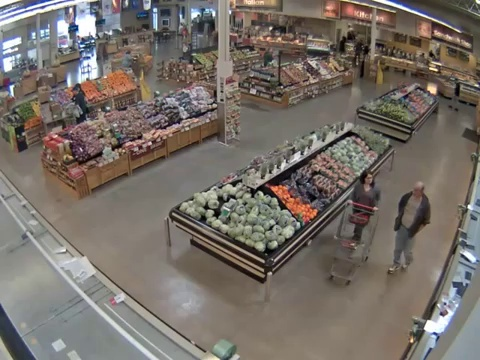face: (412, 186, 423, 197), (362, 175, 374, 185)
